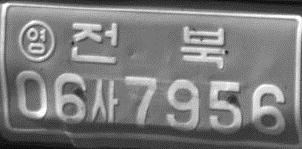0: (15, 69, 48, 120)
5: (209, 79, 242, 134)
6: (252, 83, 287, 137), (52, 71, 86, 125)
7: (123, 75, 157, 125)
9: (165, 78, 201, 132)
사: (91, 78, 119, 122)
영: (17, 19, 55, 61)
전북_D: (70, 21, 227, 69)
